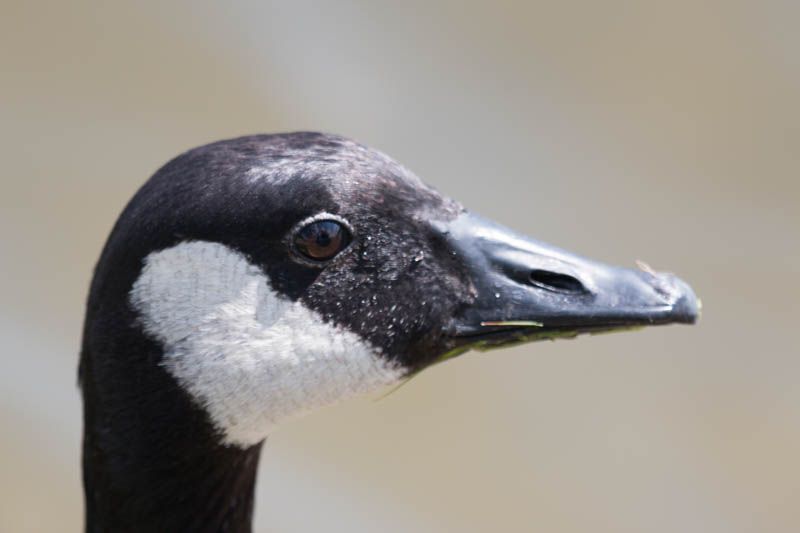goose-head: (75, 131, 705, 455)
